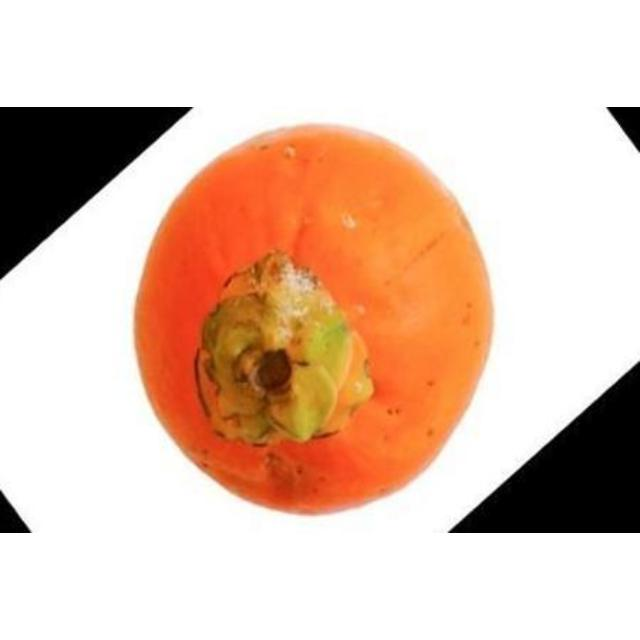good: (128, 123, 498, 518)
